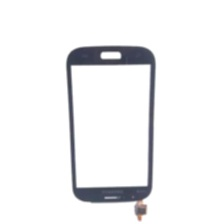phone: (63, 41, 157, 209)
